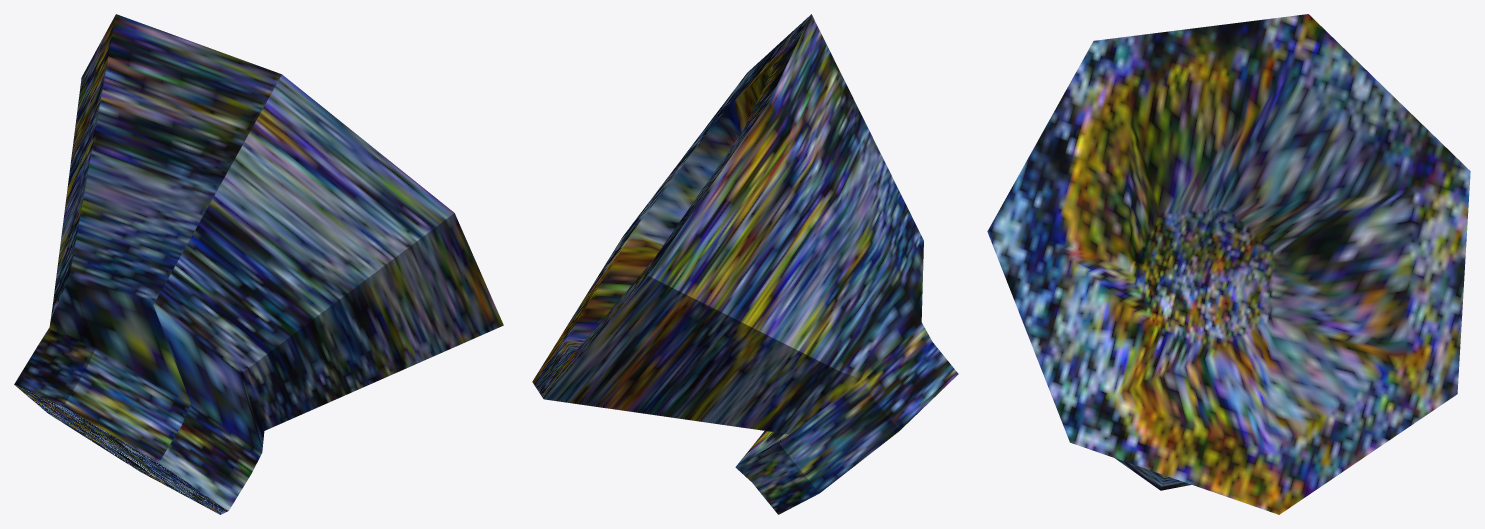
File: flower-ver1.glb
3 renders of one model, left to right at view 1: azimuth 30°, elevation 25°; view 2: azimuth 150°, elevation 25°; view 3: azimuth 270°, elevation 25°, orthographic. The views are drawn at different scales.
Visible parts, largest first — view 1: flowermodel-ver1; view 2: flowermodel-ver1; view 3: flowermodel-ver1.
Boxes of the visible parts, x1,y1,x2,y2 form: flowermodel-ver1: [14, 14, 503, 514]; flowermodel-ver1: [532, 14, 958, 514]; flowermodel-ver1: [987, 14, 1470, 514].
Bounding box in the file's own units: 2.87 × 3.16 × 2.99.
1 material, 1 textured.
